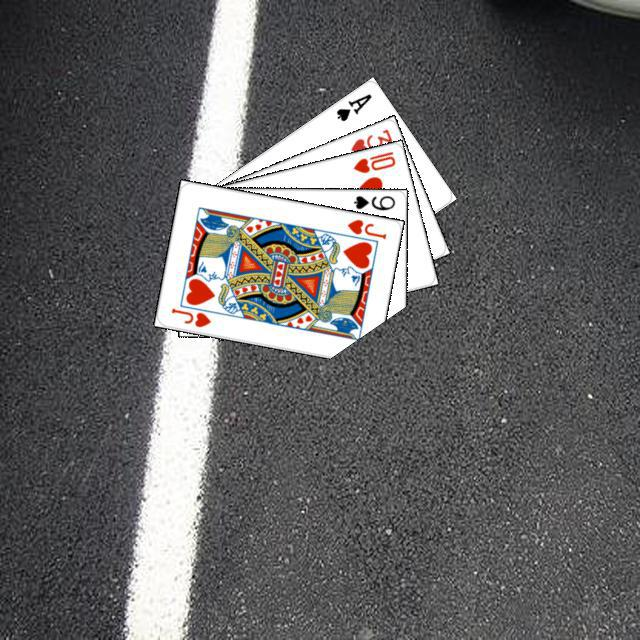10h: (348, 146, 397, 175)
3h: (346, 124, 394, 155)
9s: (349, 190, 397, 212)
As: (331, 89, 374, 123)
Jh: (342, 214, 388, 241), (167, 303, 212, 329)
